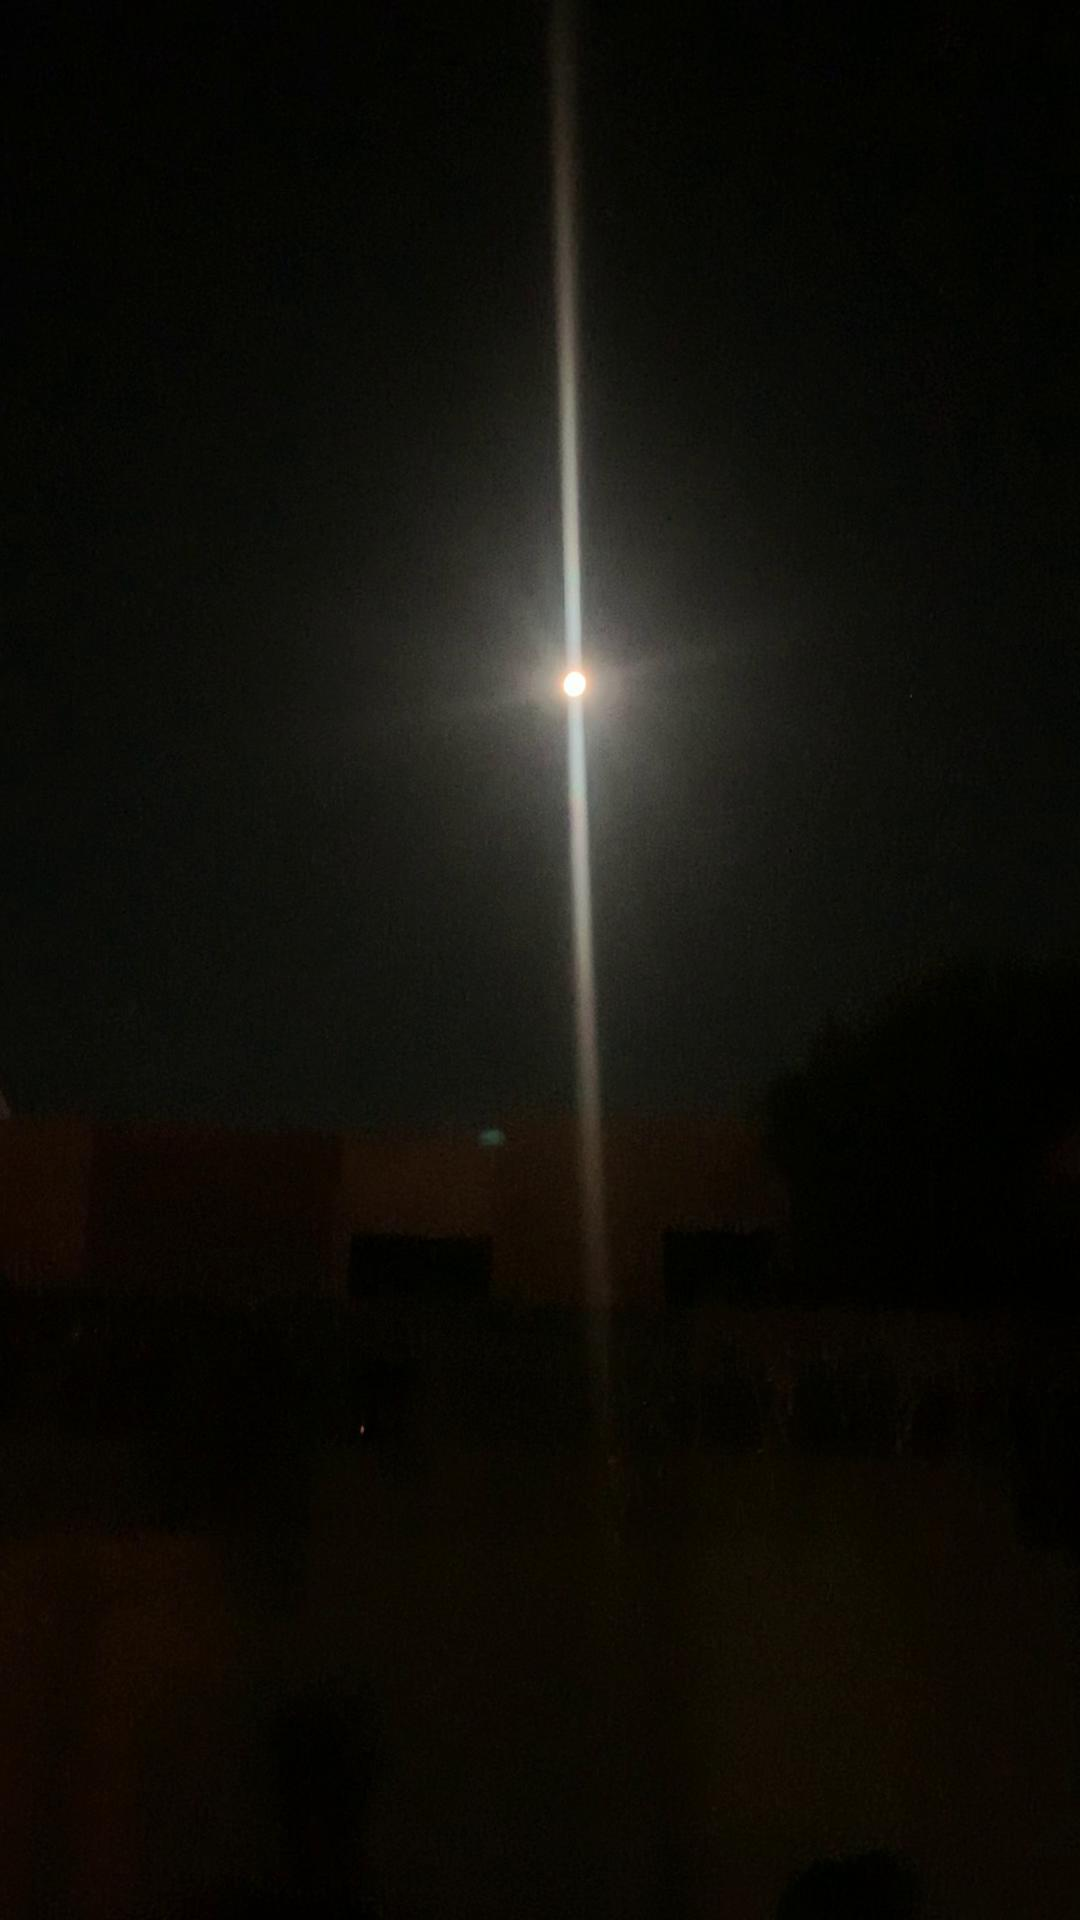moon: (550, 662, 625, 741)
